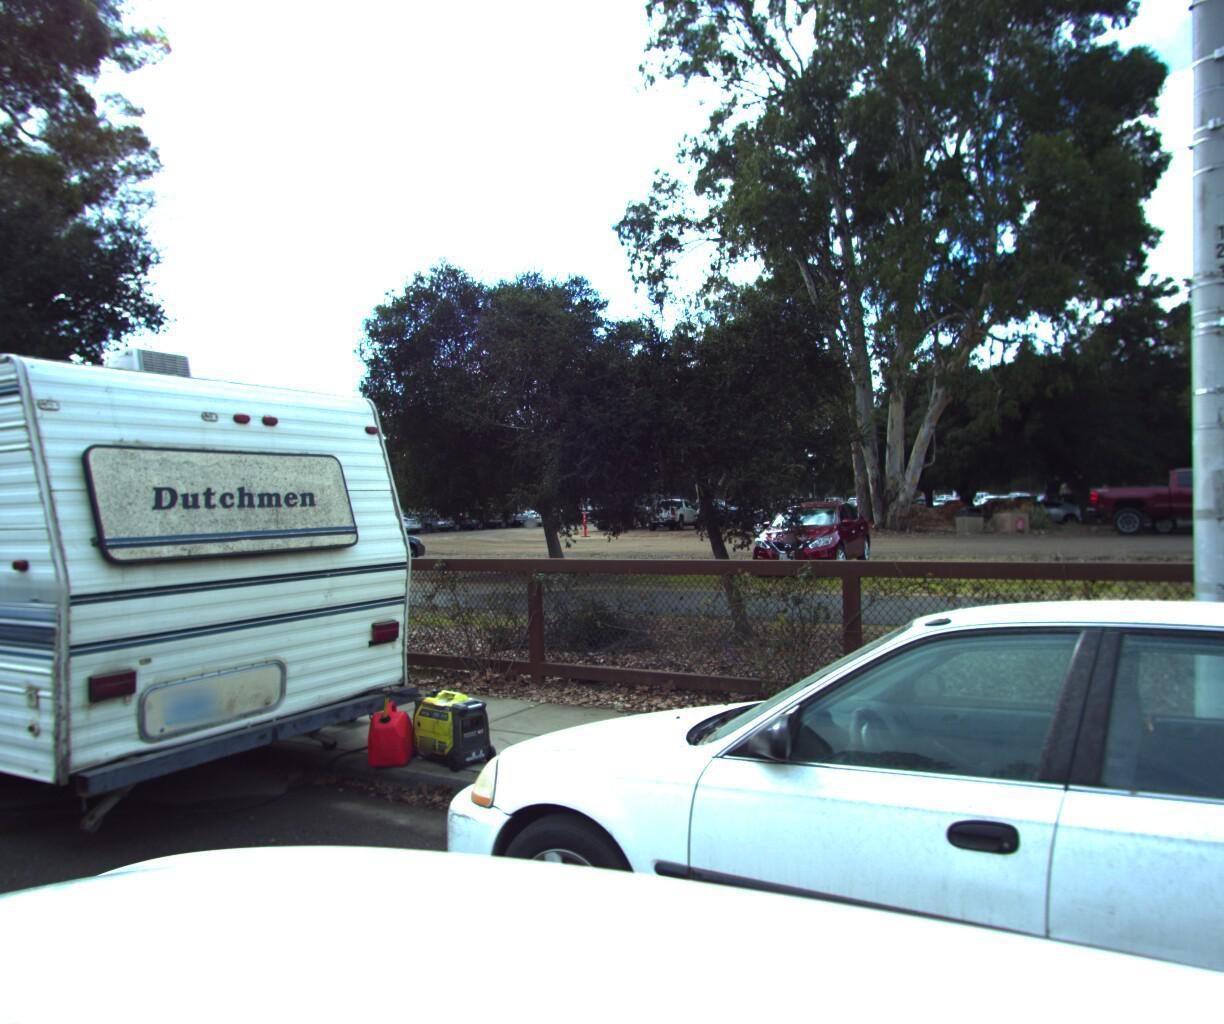car: (359, 566, 1224, 1024)
other_vehicle: (0, 280, 461, 896)
